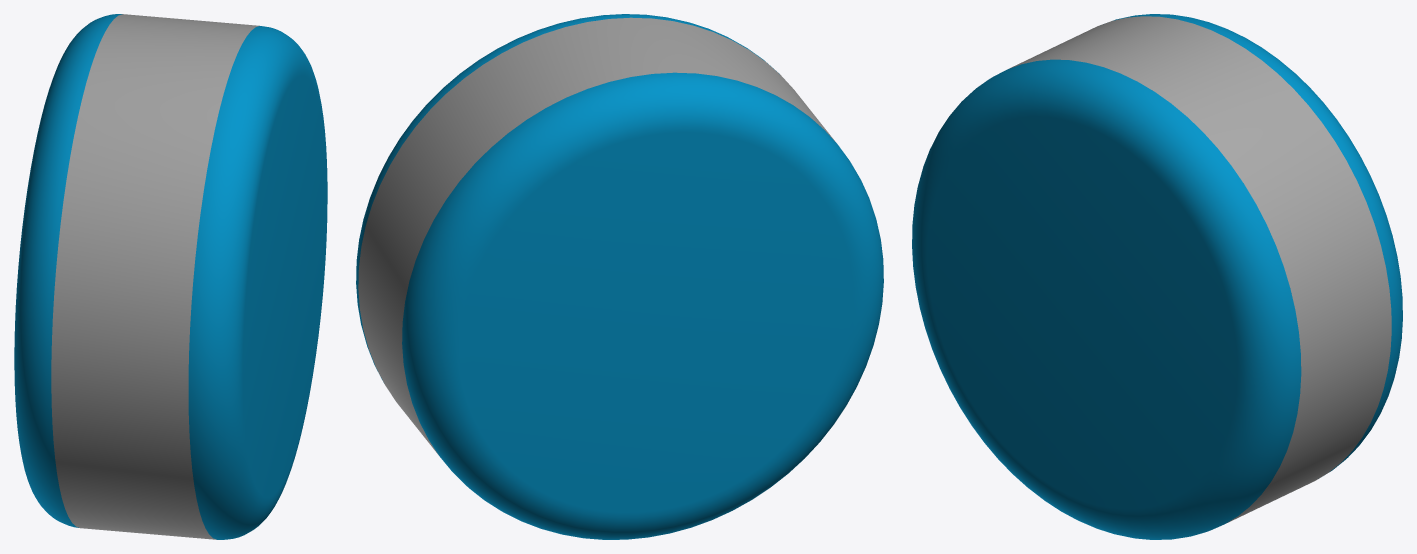
The model's file is music-player-3d-animated-icon-1510859502722.glb.
The picture shows the model from 3 angles, left to right: view 1: azimuth 30°, elevation 25°; view 2: azimuth 150°, elevation 25°; view 3: azimuth 270°, elevation 25°; orthographic projection. The views are drawn at different scales.
Parts seen in each view (by area): view 1: Cylinder.032; view 2: Cylinder.032; view 3: Cylinder.032.
Part boxes in pixels (bbox=[...]): Cylinder.032: bbox=[14, 14, 327, 539]; Cylinder.032: bbox=[356, 14, 883, 539]; Cylinder.032: bbox=[912, 14, 1402, 539].
Size of what is drawn, in the model's own units: 1.45 by 1.56 by 1.52.
